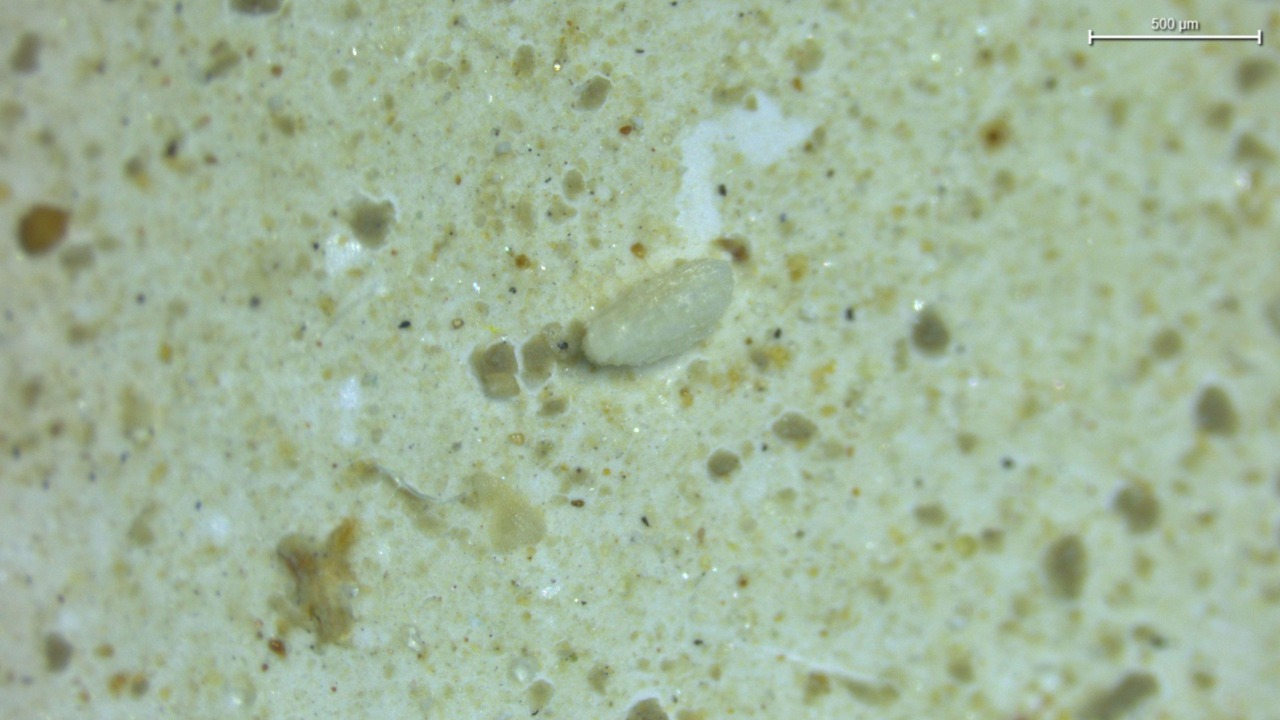microplastic_fragment: (582, 259, 734, 367)
